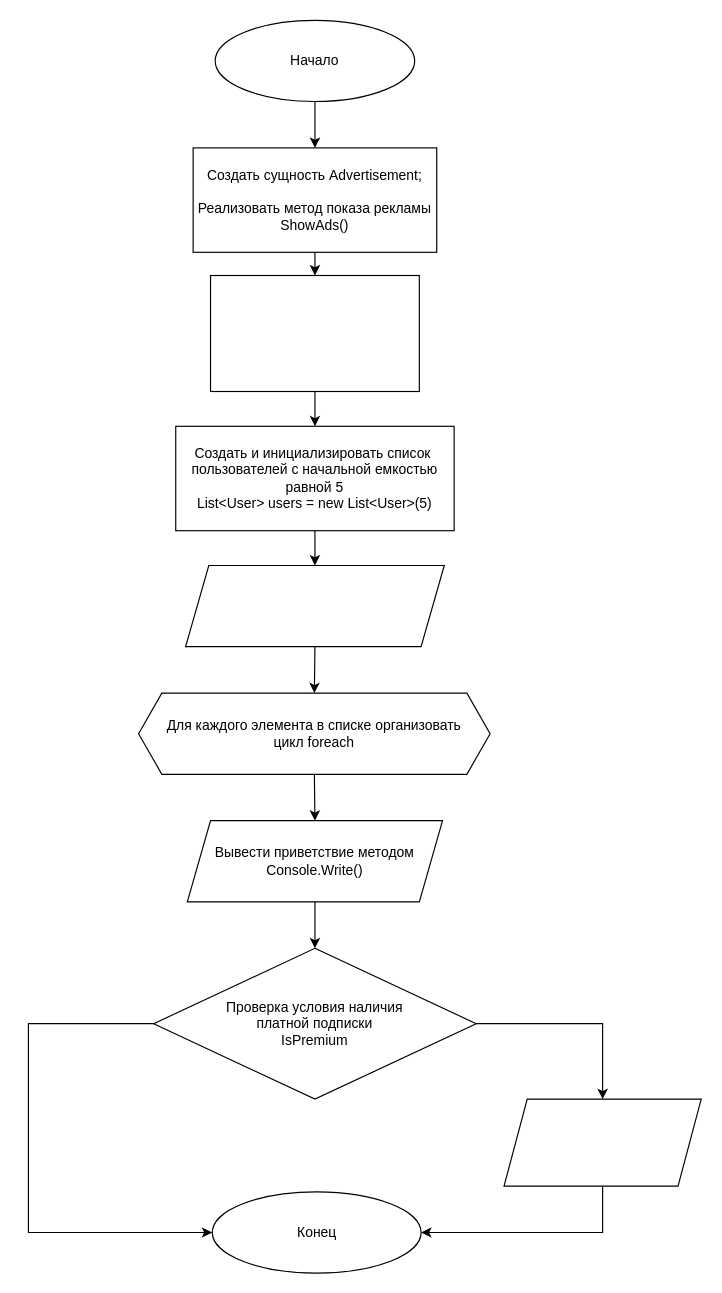
Image size: 722x1293. Some labels were removed from this diagram. Each missing label, with the centre of its shape:
"Заполнить список List<User> users" belongs at (314,605).
"Показать рекламу ShowAds()" belongs at (602,1142).
"Создать сущность User с автосвойствами: Login; Name: IsPrime." belongs at (314,333).
